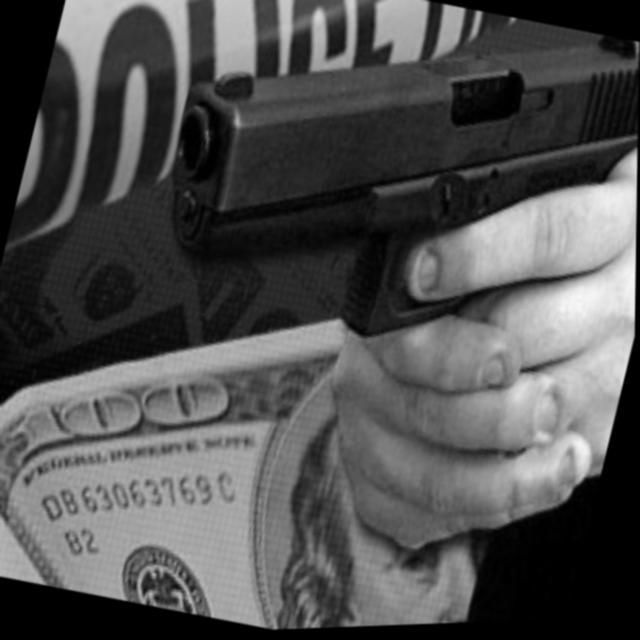weapon: (137, 0, 640, 391)
